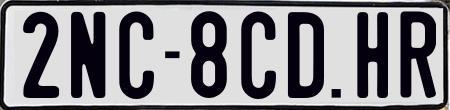2: (21, 11, 61, 102)
8: (188, 10, 230, 99)
C: (241, 11, 278, 102), (116, 10, 151, 100)
D: (287, 9, 325, 97)
H: (354, 9, 386, 100)
N: (68, 11, 108, 99)
R: (399, 8, 431, 95)
